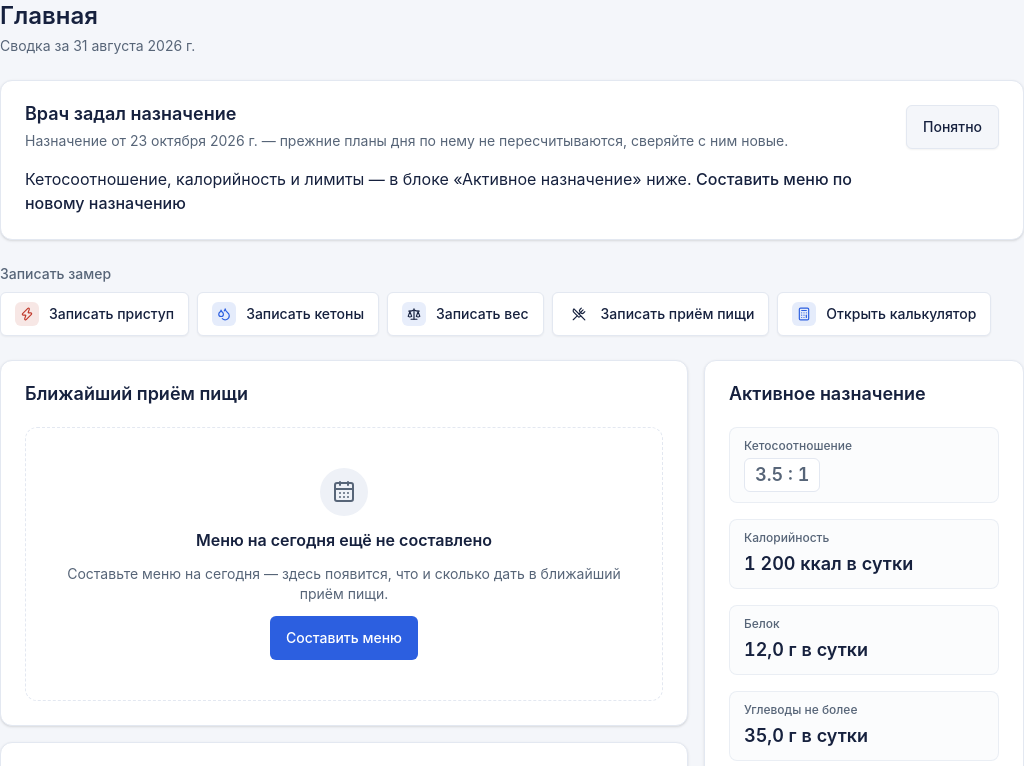
Test: главная родителя › говорит о новом назначении и убирает сообщение по нажатию
The width and height of the screenshot is (1024, 766).
Expected: the heading "Врач задал назначение" is shown, 25,103 -> 236,124
Step 1. Click the button "Понятно" → (953, 127), box 906,105 -> 999,149
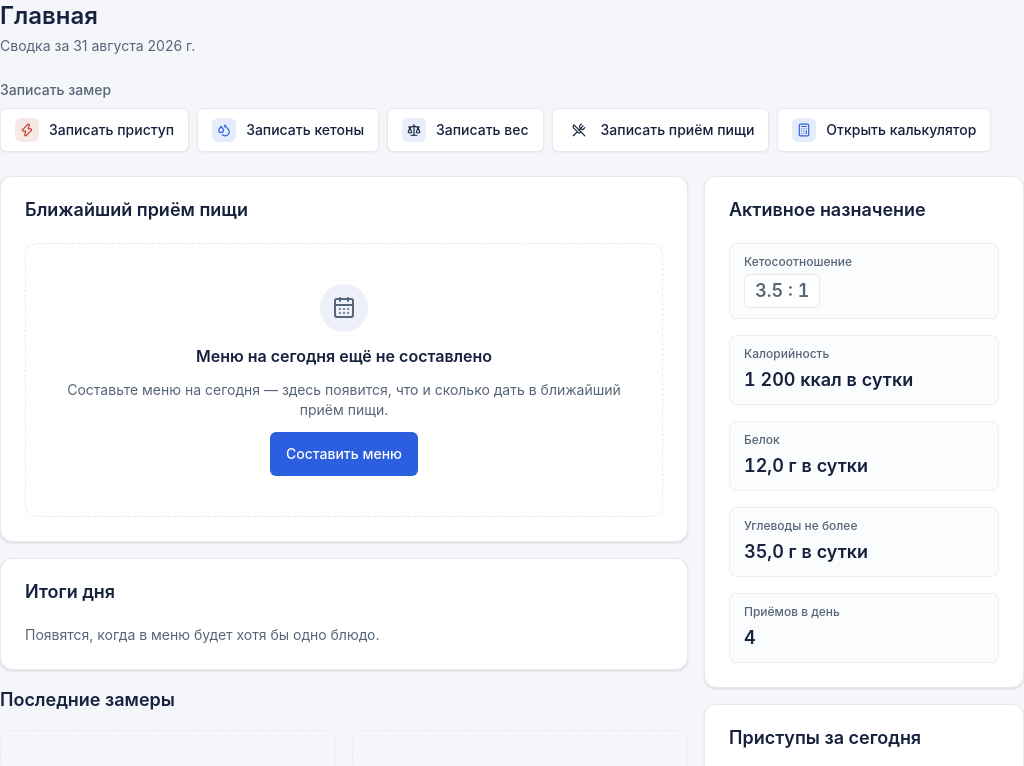
Result: the heading "Врач задал назначение" is gone
